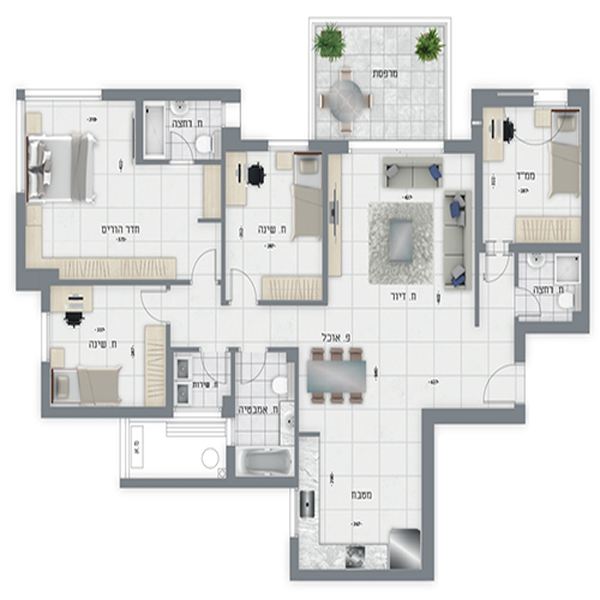door: (476, 364, 529, 407), (228, 268, 262, 310), (198, 347, 231, 388), (140, 289, 176, 325), (513, 285, 545, 325), (239, 347, 270, 388), (485, 247, 513, 284), (167, 132, 197, 166), (192, 250, 217, 288)
room: (14, 89, 227, 284), (291, 410, 430, 583), (221, 135, 335, 310), (472, 90, 588, 260), (42, 281, 172, 418), (227, 347, 300, 490)
wall: (422, 410, 435, 584), (427, 407, 524, 426), (43, 405, 170, 417), (105, 92, 241, 103), (476, 85, 484, 251), (515, 322, 587, 333), (323, 154, 328, 304), (307, 141, 355, 156)
window: (348, 140, 443, 156), (27, 90, 102, 104), (121, 419, 131, 475), (257, 299, 327, 306), (269, 141, 310, 152), (42, 314, 51, 363)
